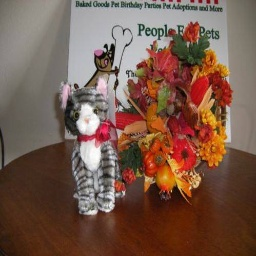cat: (58, 85, 131, 217)
